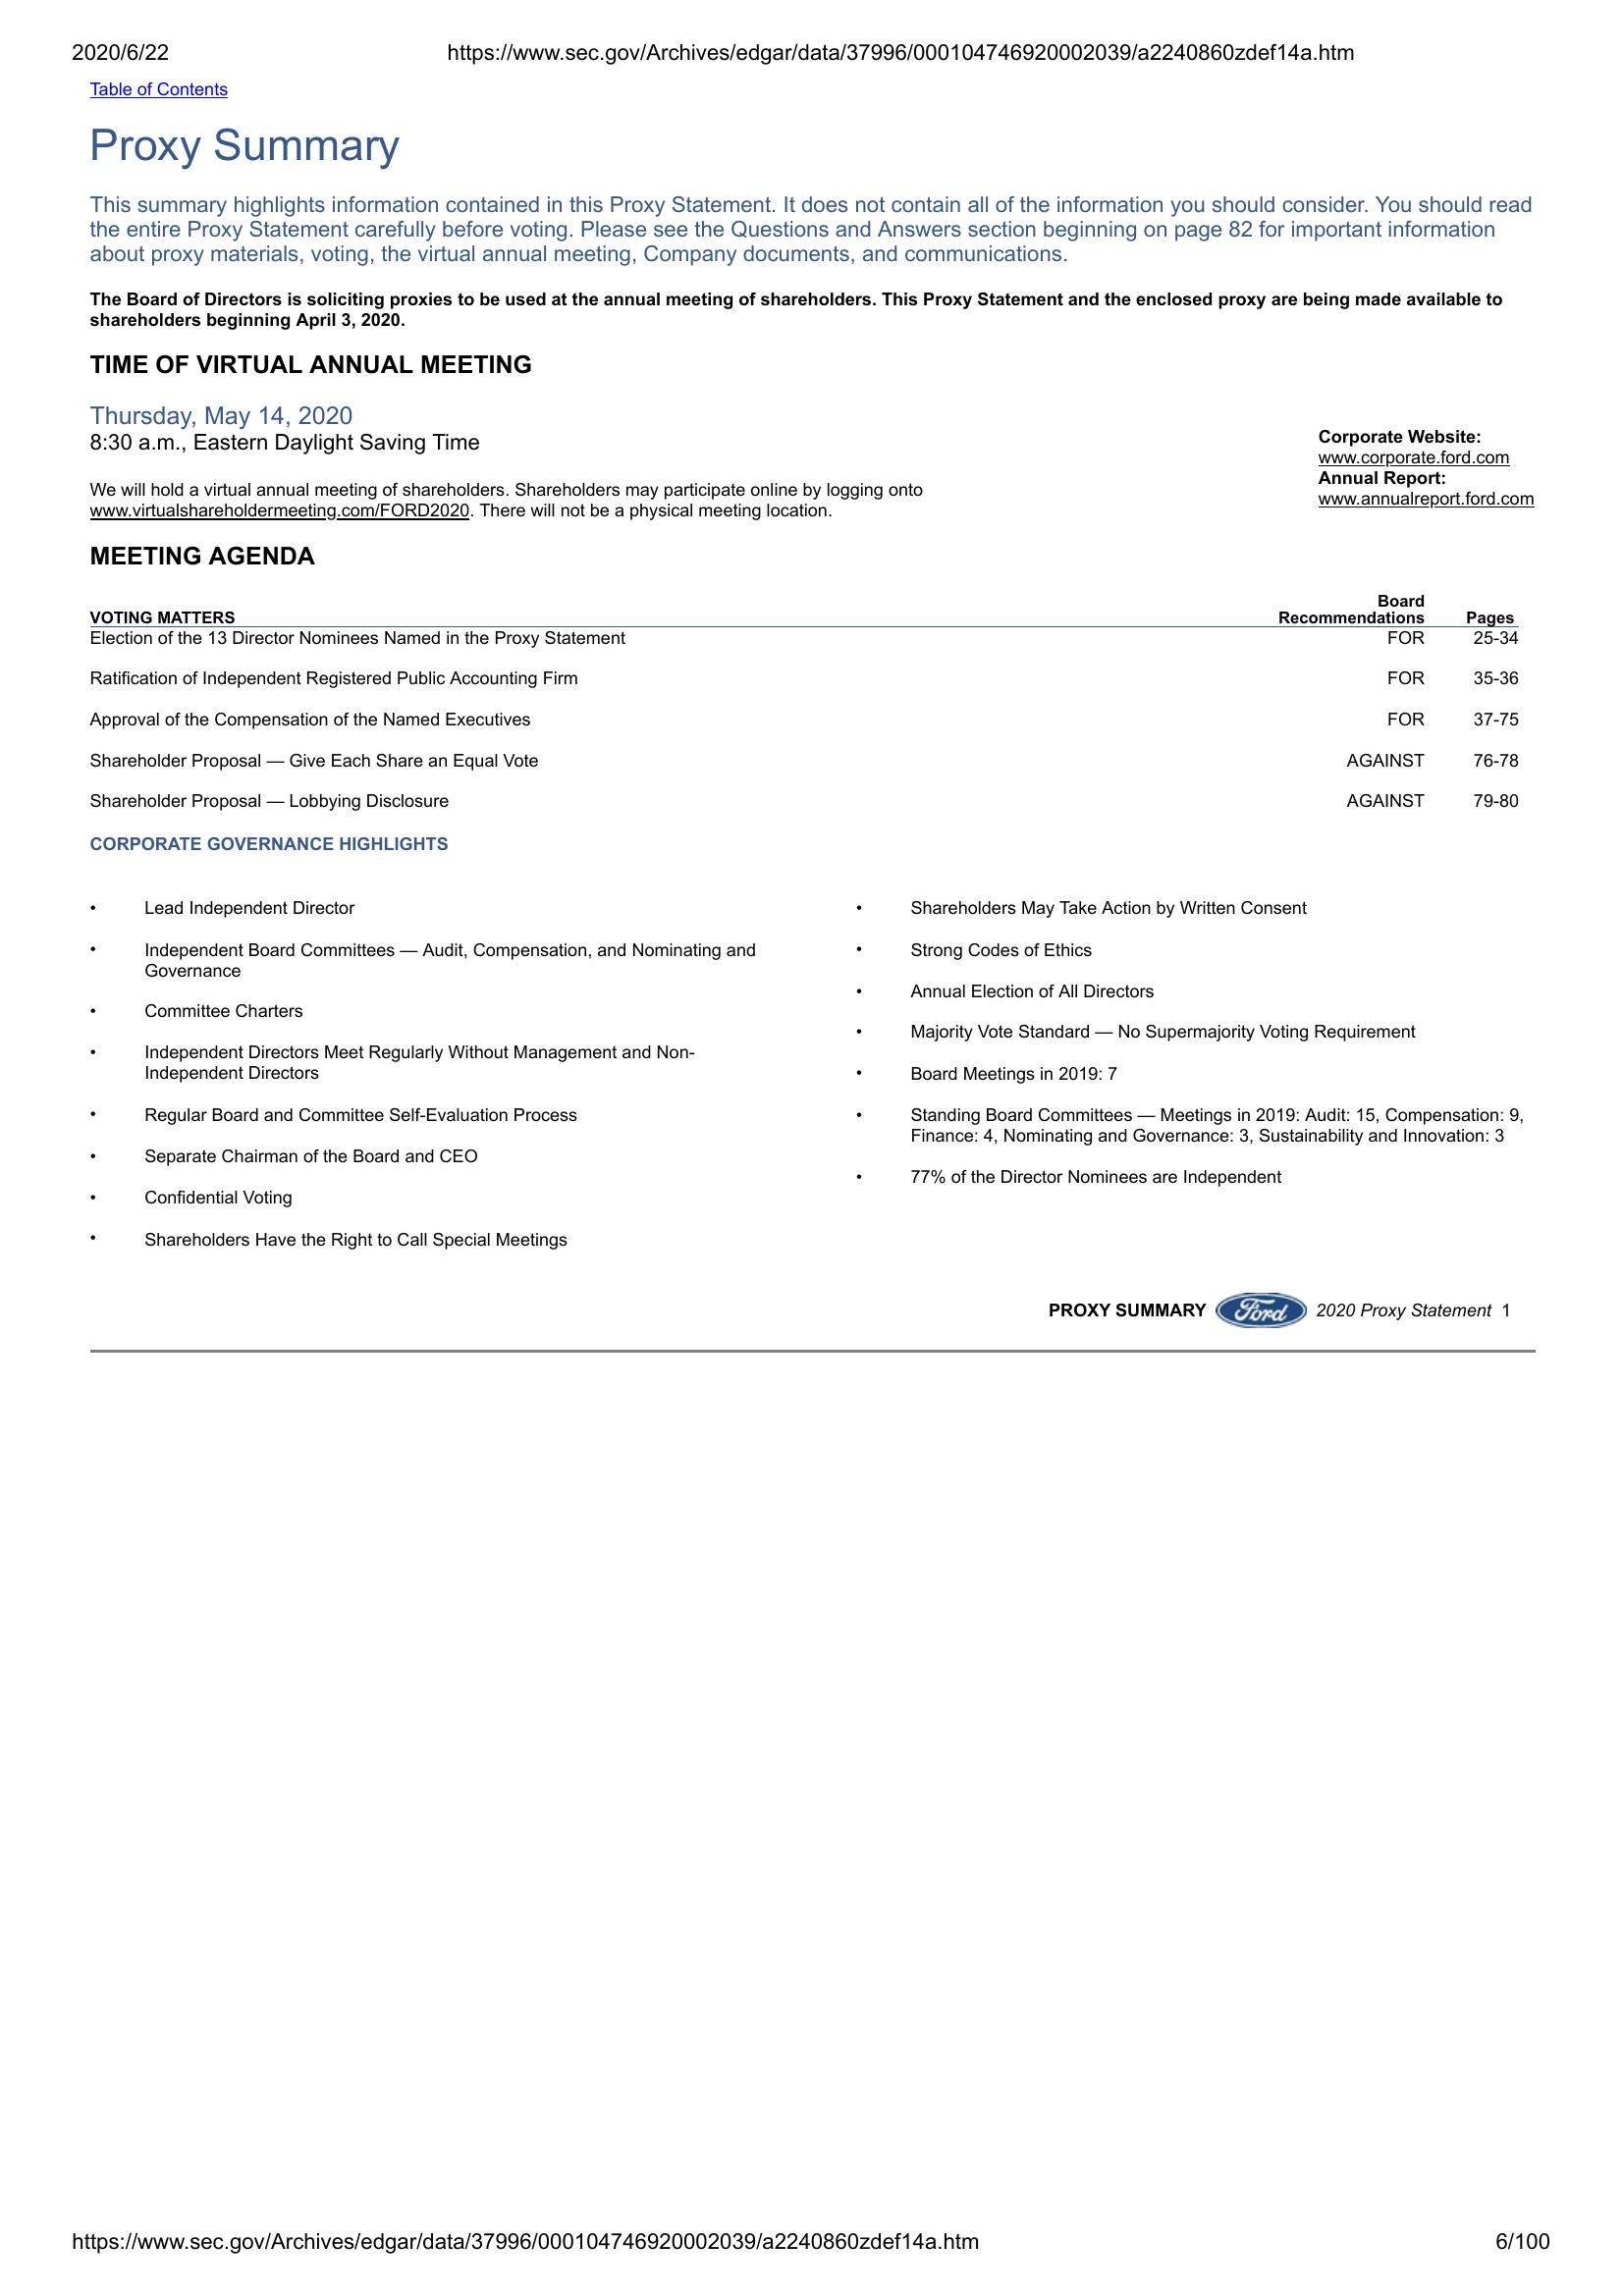table: (83, 586, 1530, 816)
